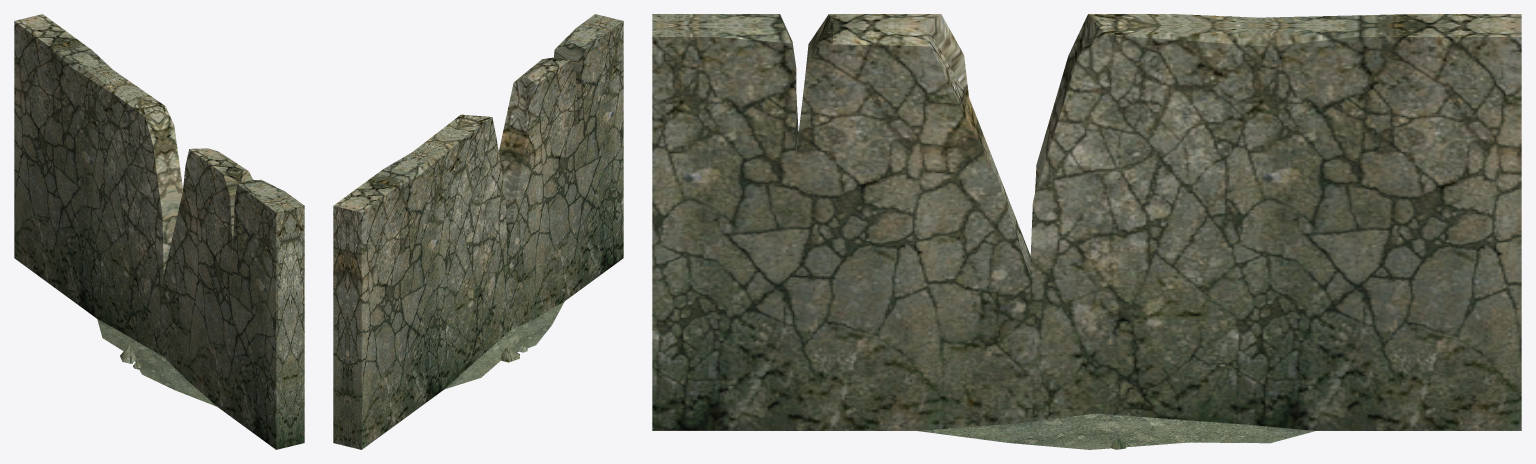
File: thm_nboo_gungan_cleft_wall_lg_s01_l1.fbx
3 views of the same model, side by side, from view 1: azimuth 30°, elevation 25°; view 2: azimuth 150°, elevation 25°; view 3: azimuth 270°, elevation 25° (orthographic). The views are drawn at different scales.
Visible parts, largest first — view 1: mesh_node; view 2: mesh_node; view 3: mesh_node.
Boxes of the visible parts, left/top/right/bottom form: mesh_node: left=14, top=14, right=304, bottom=449; mesh_node: left=333, top=14, right=623, bottom=449; mesh_node: left=652, top=14, right=1521, bottom=449.
Size of the model in its own units: 1.36 by 4.01 by 8.
